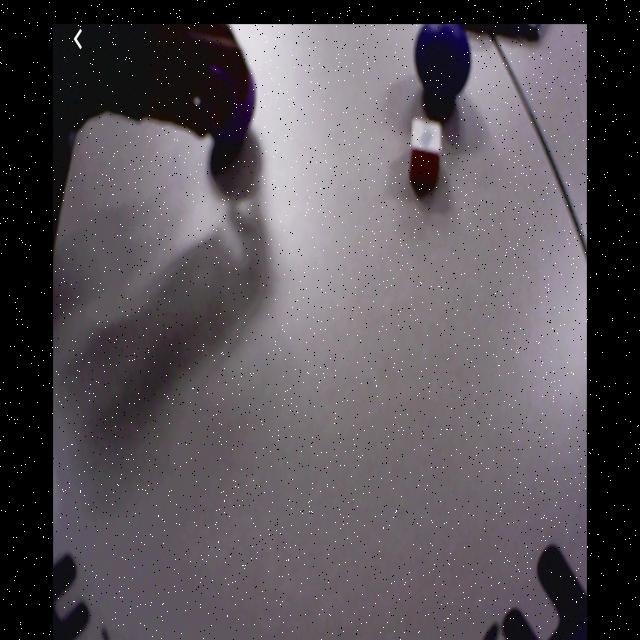ball: (416, 25, 472, 101), (204, 62, 256, 139)
